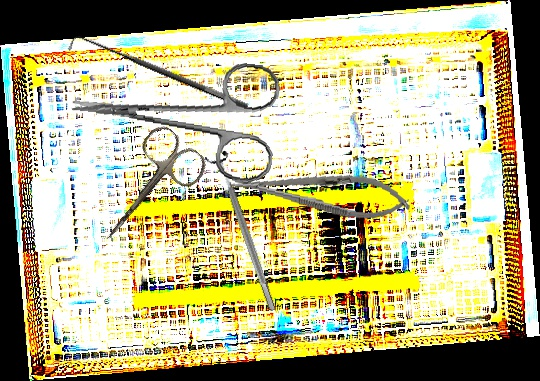Fixation Ring: (203, 149, 286, 315)
Hook Surgical: (64, 26, 251, 124)
Iris Scissors: (64, 42, 284, 185), (79, 120, 213, 261)
Needle Holder: (227, 159, 414, 226)
